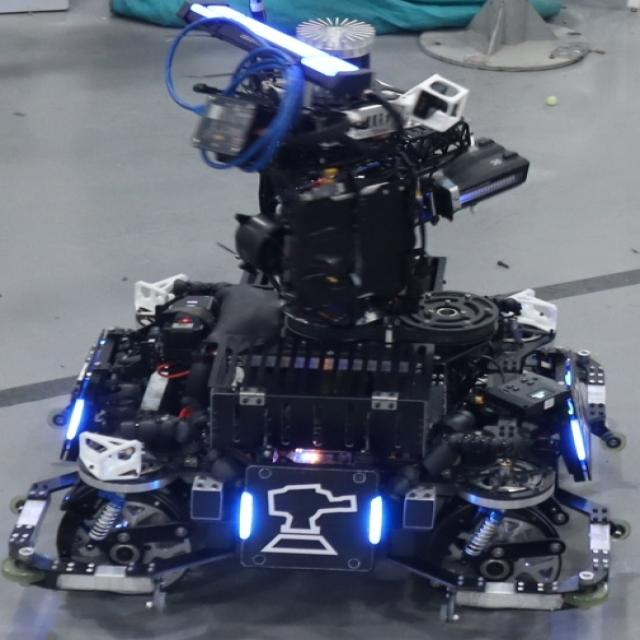Bs: (236, 466, 385, 562)
